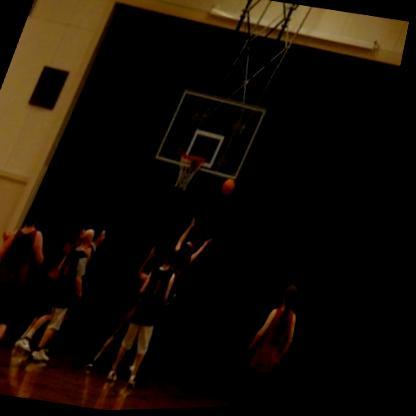basketball: (225, 178, 247, 200)
rim: (182, 152, 215, 169)
